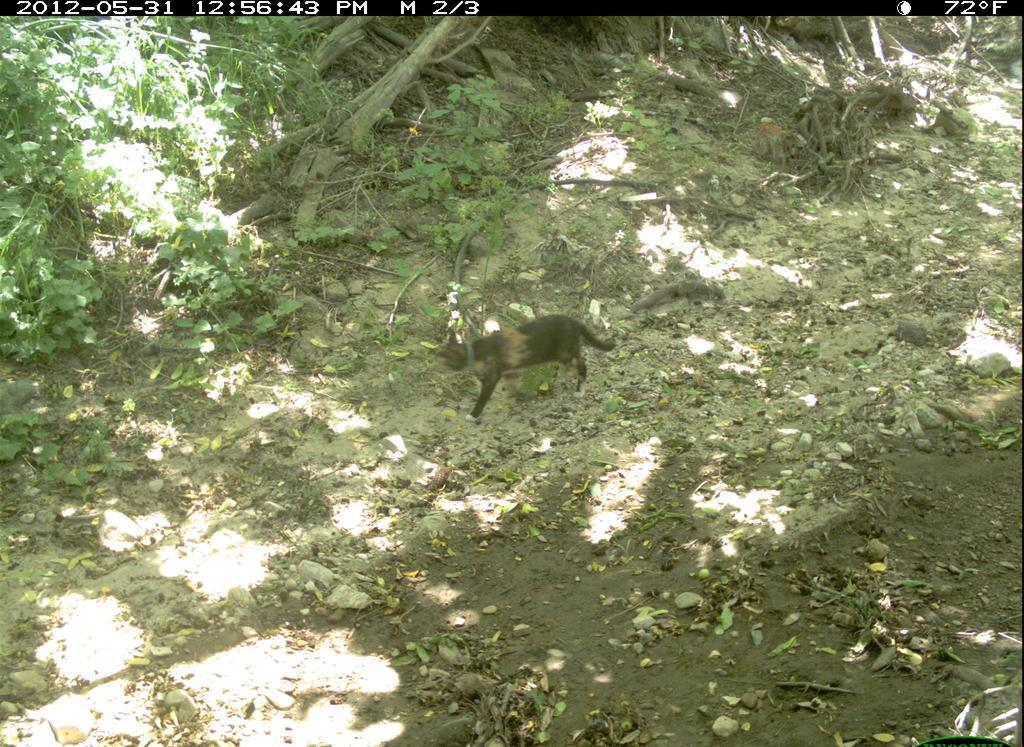cat: (427, 308, 634, 418)
